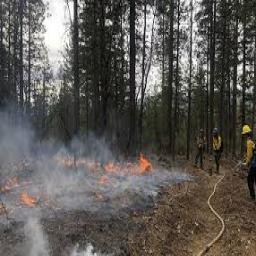Low smoke: (0, 90, 201, 256)
Small fire: (1, 157, 180, 222)
